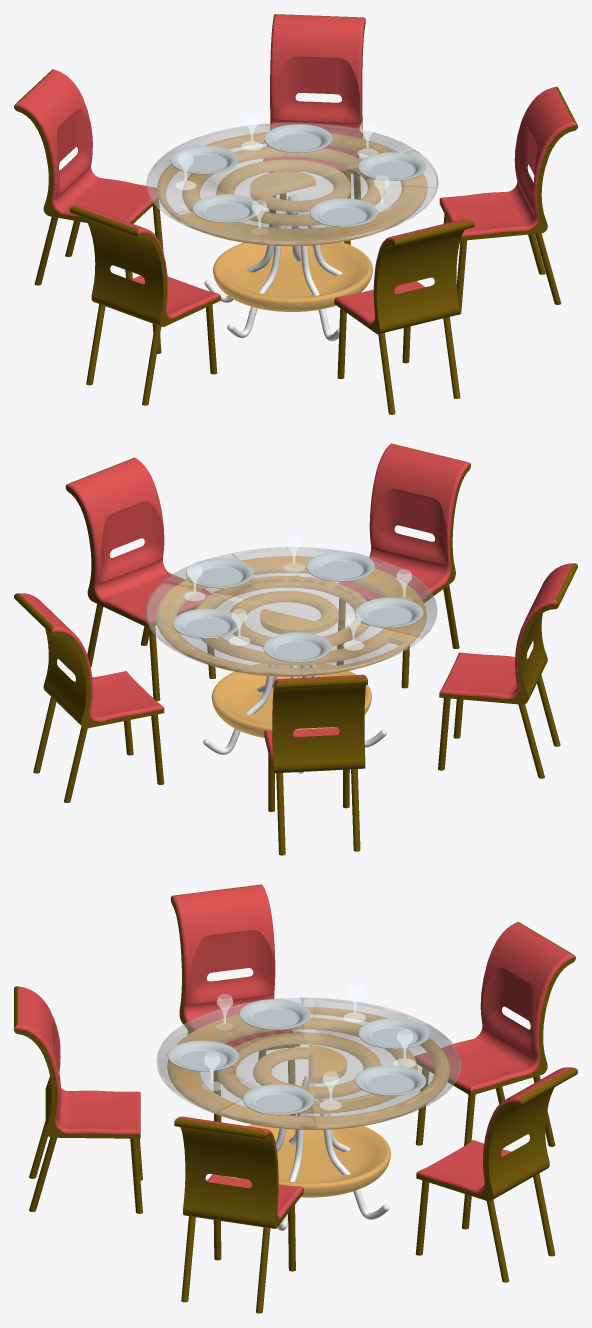
Rendered from dining_table.glb.
The picture shows the model from 3 angles, top to bottom: view 1: azimuth 30°, elevation 25°; view 2: azimuth 150°, elevation 25°; view 3: azimuth 270°, elevation 25°; orthographic projection. The views are drawn at different scales.
Parts seen in each view (by area): view 1: Body45, Body38, Body48, Body1, Body49, Body50, Body47, Body46, Body42, Body57, Body58, Body51 (+2 smaller); view 2: Body45, Body38, Body47, Body1, Body49, Body48, Body50, Body46, Body59, Body56, Body58, Body51 (+2 smaller); view 3: Body45, Body38, Body49, Body50, Body47, Body48, Body1, Body46, Body42, Body56, Body57, Body51 (+2 smaller).
Boxes of the visible parts, x1,y1,x2,y2 form: Body45: (146, 122, 438, 244); Body38: (157, 132, 427, 246); Body48: (263, 14, 365, 244); Body1: (334, 218, 474, 414); Body49: (14, 69, 163, 285); Body50: (69, 205, 220, 405); Body47: (439, 86, 577, 314); Body46: (213, 242, 372, 311); Body42: (204, 194, 342, 341); Body57: (358, 152, 426, 180); Body58: (170, 145, 238, 174); Body51: (192, 194, 260, 222); Body45: (145, 547, 437, 675); Body38: (155, 556, 426, 676); Body47: (65, 457, 215, 701); Body1: (336, 443, 470, 688); Body49: (264, 674, 367, 855); Body48: (14, 593, 164, 802); Body50: (438, 563, 577, 778); Body46: (211, 663, 371, 737); Body59: (172, 608, 240, 638); Body56: (306, 551, 374, 581); Body58: (263, 632, 331, 662); Body51: (355, 597, 423, 627); Body45: (156, 997, 461, 1128); Body38: (167, 1007, 449, 1129); Body49: (414, 922, 575, 1146); Body50: (170, 884, 300, 1122); Body47: (174, 1116, 303, 1313); Body48: (415, 1067, 577, 1282); Body1: (14, 986, 142, 1213); Body46: (238, 1115, 390, 1197); Body42: (206, 1074, 389, 1230); Body56: (167, 1040, 238, 1071); Body57: (243, 1084, 314, 1115); Body51: (239, 999, 310, 1029).
Bounding box in the file's own units: 3.52 × 1.28 × 3.36.
